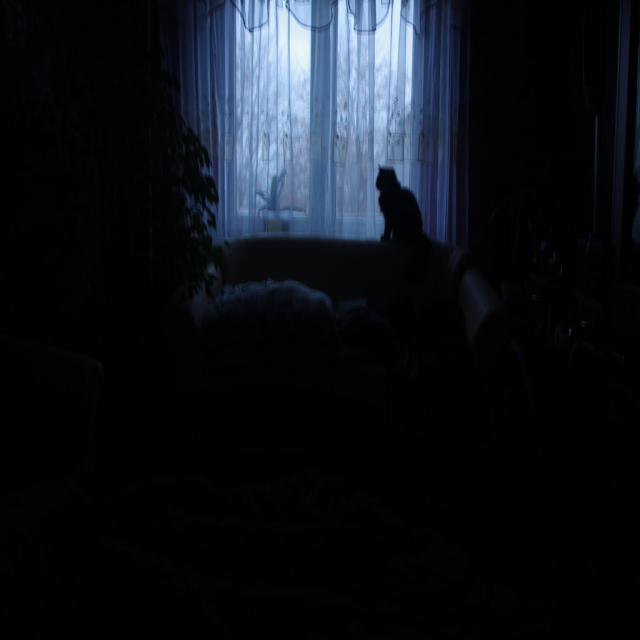Cat: (367, 148, 430, 245)
chair: (145, 229, 535, 490), (0, 273, 95, 497)
